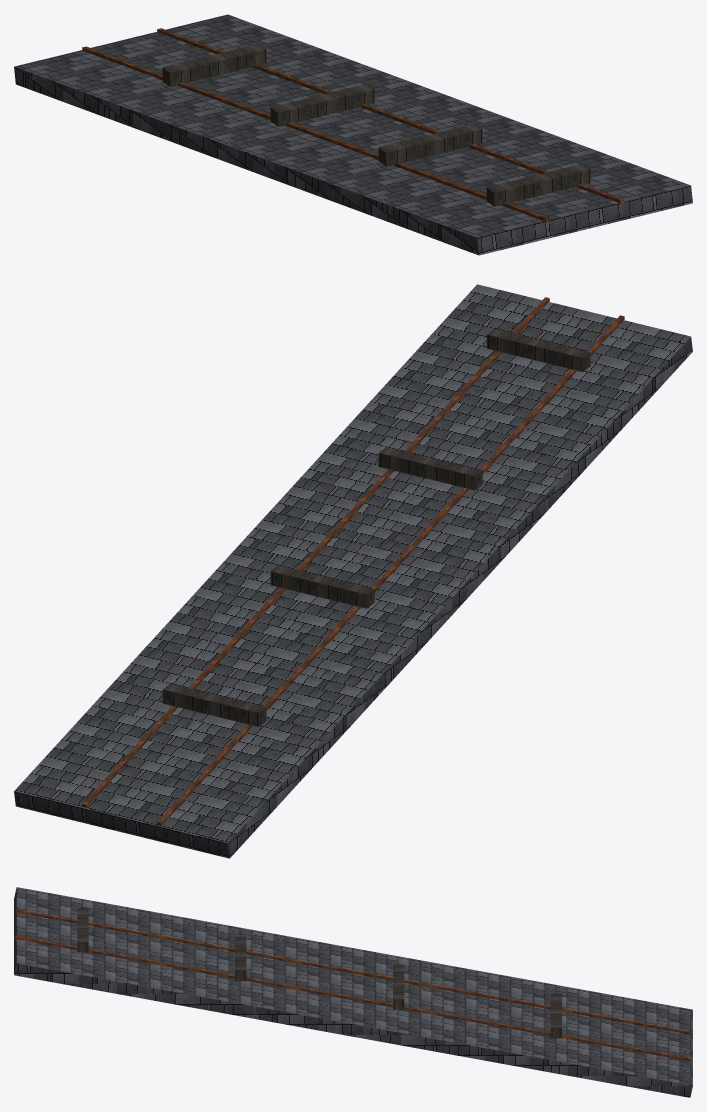
File: grada.obj
The picture shows the model from 3 angles, top to bottom: view 1: azimuth 30°, elevation 25°; view 2: azimuth 150°, elevation 25°; view 3: azimuth 270°, elevation 25°; orthographic projection. The views are drawn at different scales.
Visible parts, largest first — view 1: grada; view 2: grada; view 3: grada.
Part boxes in pixels (x1=…): grada: x1=14, y1=14, x2=692, y2=255; grada: x1=14, y1=284, x2=692, y2=858; grada: x1=14, y1=887, x2=692, y2=1097.
Bounding box in the file's own units: 8 × 6.7 × 30.12.
Materials: 3 (3 with a texture image).
